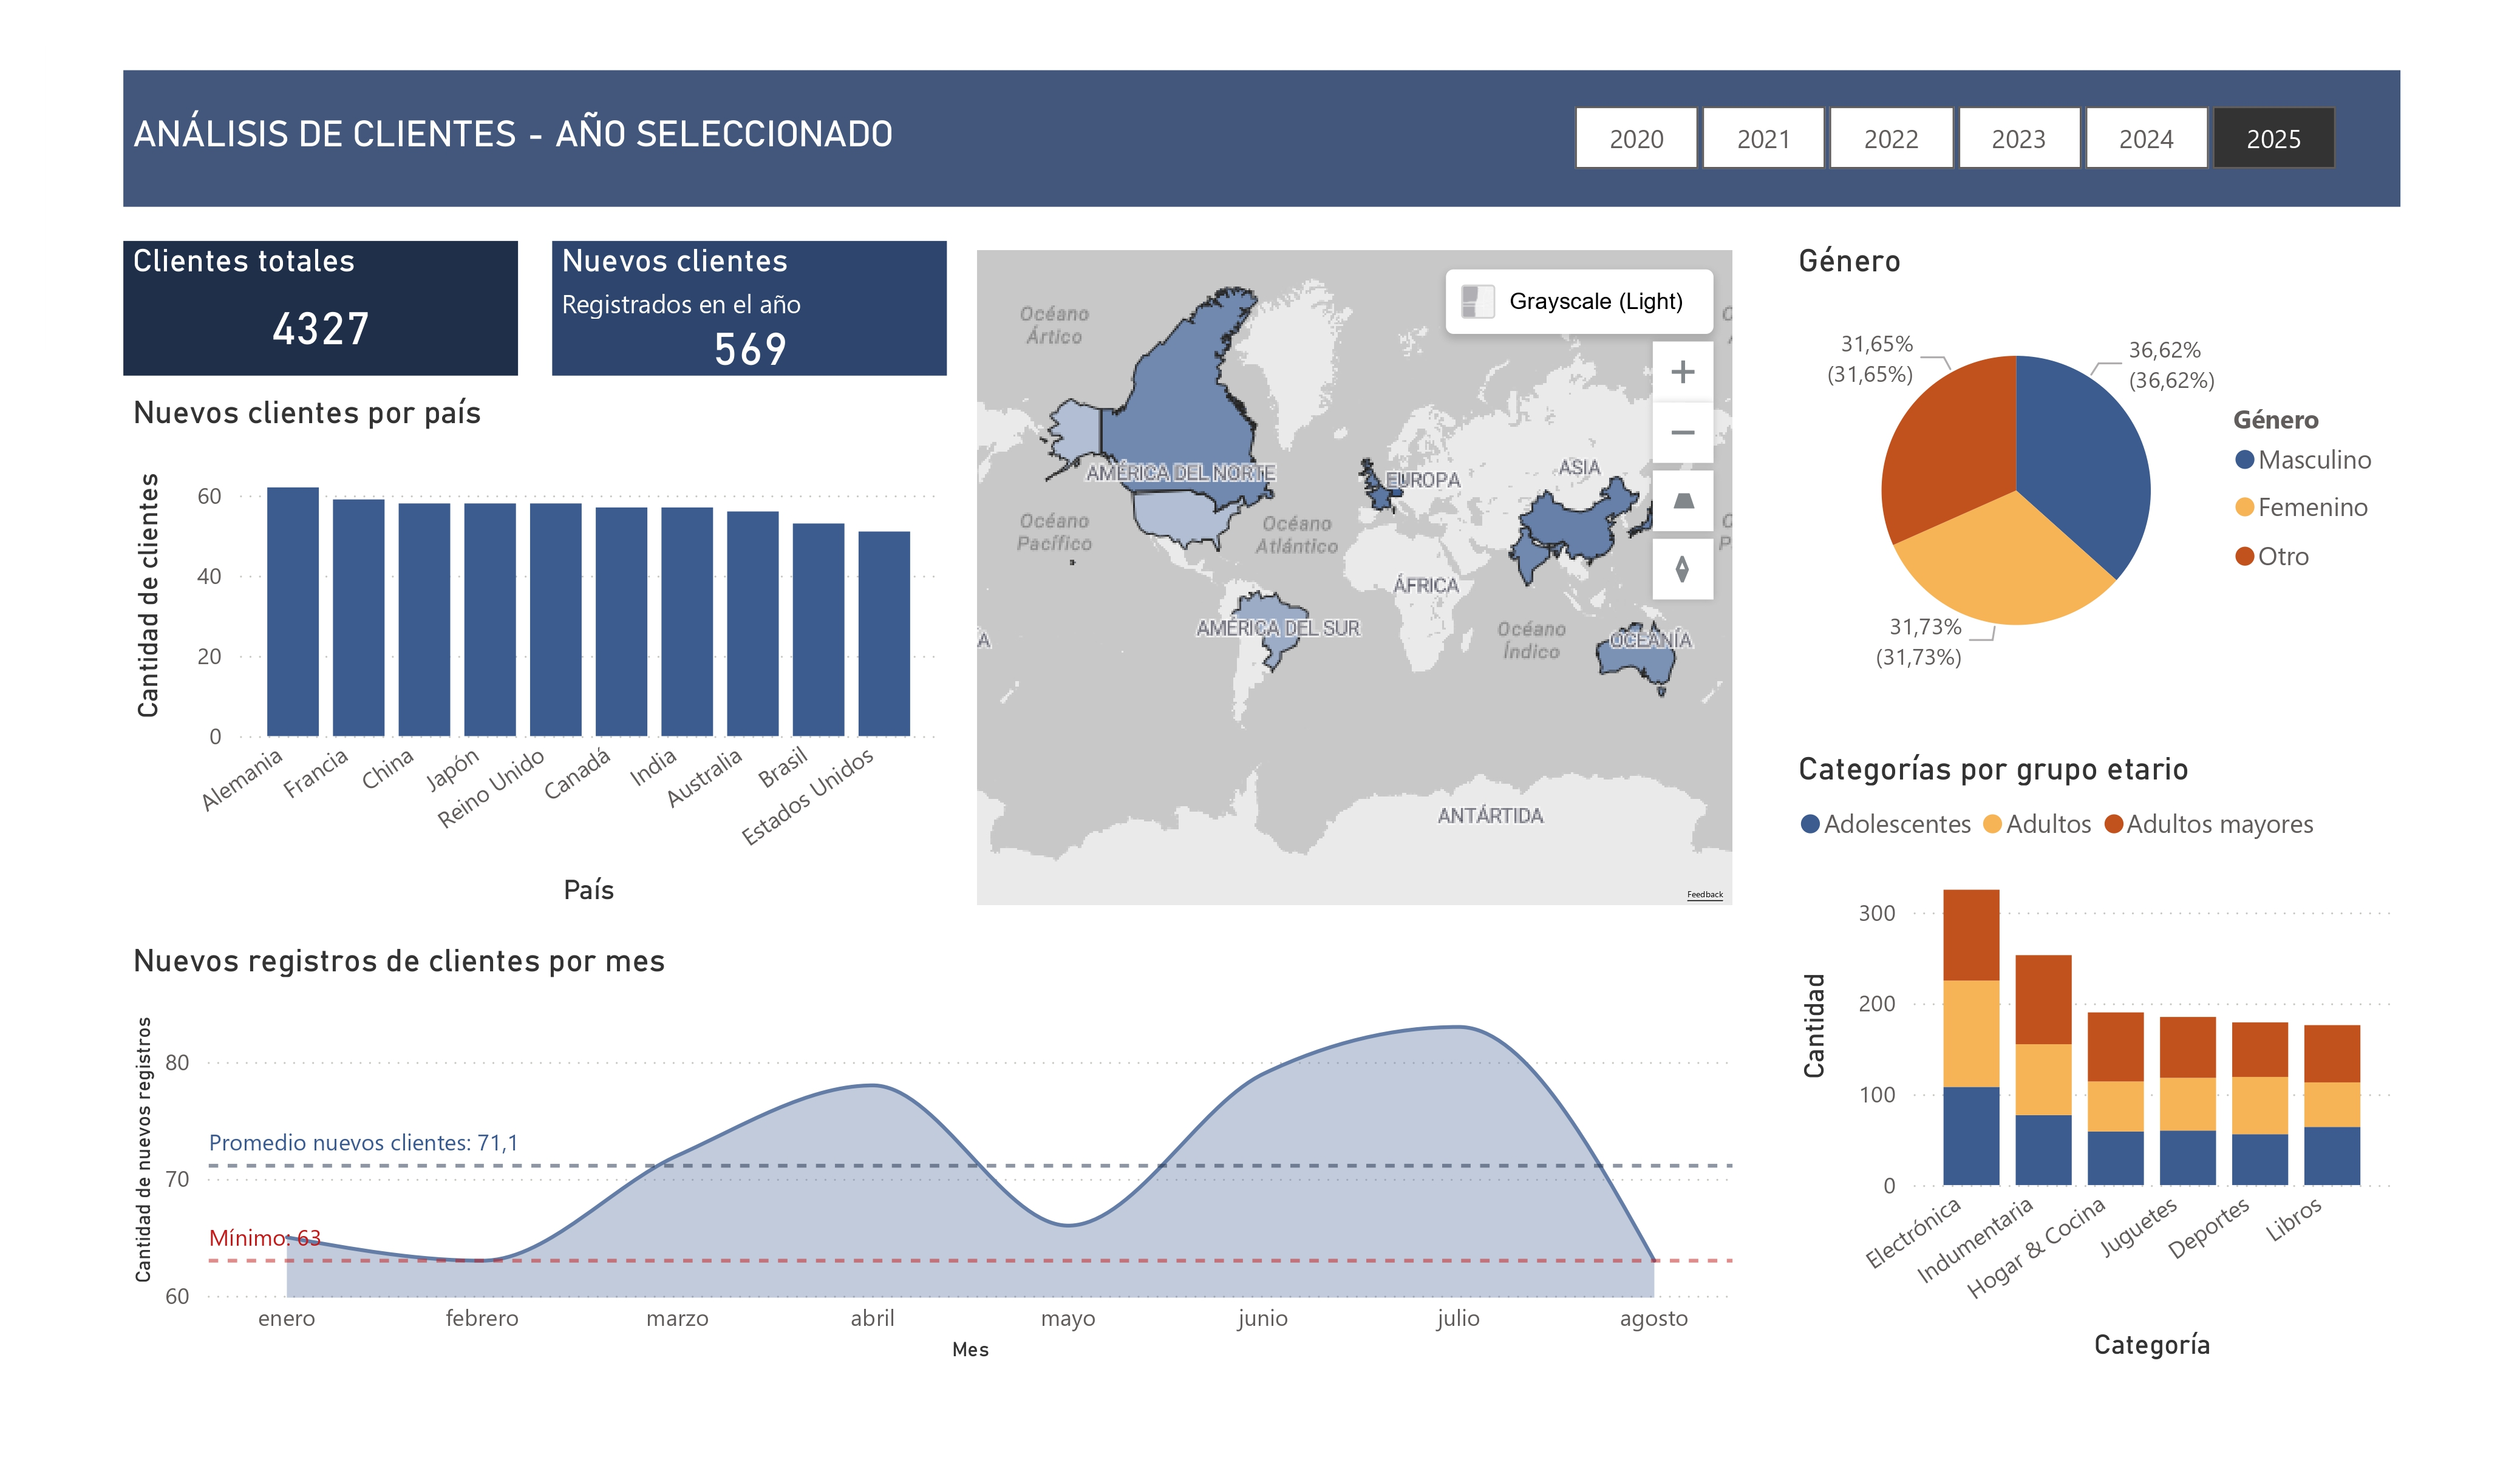

Layout of this report page (visuals, bound fields, positions):
{"tool":"powerbi","page":{"name":"Página 3","canvas":[1280,720],"ordinal":2},"visuals":[{"type":"textbox","box":[40.9,12.6,1200,72],"z":0},{"type":"pieChart","title":"Género","fields":{"Category":["orders.gender"],"Y":["CountNonNull(orders.order_id)"]},"box":[919.4,102.9,321.6,244.5],"z":1000},{"type":"areaChart","title":"Nuevos registros de clientes por mes","fields":{"Category":["customers.customer_id","customers.signup_date.Variación.Jerarquía de fechas.Mes"],"Y":["CountNonNull(customers.signup_date)"]},"box":[40.6,472.1,853.1,225.6],"z":2000},{"type":"azureMap","fields":{"Category":["customers.country"]},"box":[485.9,102.9,407.8,348.4],"z":3000},{"type":"columnChart","title":"Categorías por rango etario","fields":{"Category":["orders.category"],"Y":["CountNonNull(orders.age_group)"],"Series":["orders.age_group"]},"box":[919.4,371.1,321.6,326.6],"z":4000},{"type":"card","title":"Clientes totales","fields":{"Values":["Medidas.Clientes totales"]},"box":[40.9,103.1,208.1,71],"z":5000},{"type":"slicer","fields":{"Values":["customers.signup_date.Variación.Jerarquía de fechas.Año"]},"box":[763.1,19.8,451.3,58.4],"z":7000},{"type":"clusteredColumnChart","title":"Nuevos clientes por país","fields":{"Category":["customers.country"],"Y":["CountNonNull(customers.customer_id)"]},"box":[40.6,183.1,433.5,268.2],"z":9000},{"type":"card","title":"Nuevos clientes","fields":{"Values":["CountNonNull(customers.customer_id)"]},"box":[266.5,103.1,208.1,71],"z":10000}]}

Visuals, with their boxes on the page's 1280x720 design canvas (x1, y1, x2, y2). These are canvas units, not pixel positions in the 2520x1457 screenshot, which may show the page scaled, cropped or inside an application window:
textbox: x1=41, y1=13, x2=1241, y2=85
"Género" pieChart: x1=919, y1=103, x2=1241, y2=347
"Nuevos registros de clientes por mes" areaChart: x1=41, y1=472, x2=894, y2=698
azureMap - customers.country: x1=486, y1=103, x2=894, y2=451
"Categorías por rango etario" columnChart: x1=919, y1=371, x2=1241, y2=698
"Clientes totales" card: x1=41, y1=103, x2=249, y2=174
slicer - customers.signup_date.Variación.Jerarquía de fechas.Año: x1=763, y1=20, x2=1214, y2=78
"Nuevos clientes por país" clusteredColumnChart: x1=41, y1=183, x2=474, y2=451
"Nuevos clientes" card: x1=266, y1=103, x2=475, y2=174
